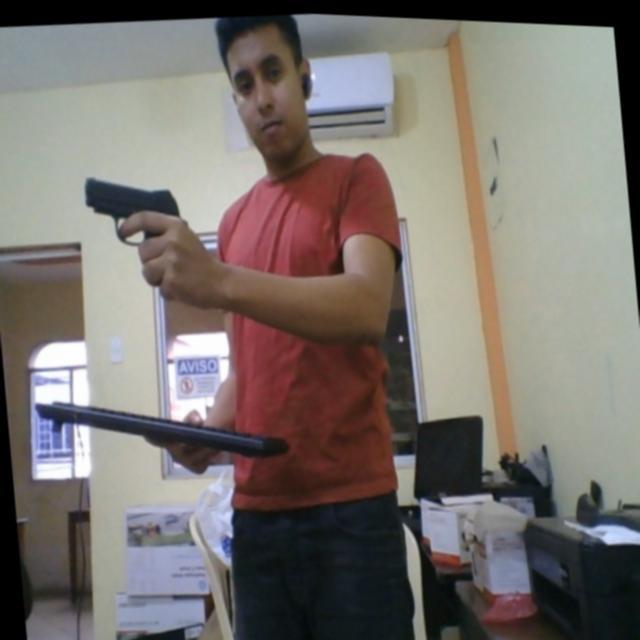weapon: (78, 166, 185, 256)
